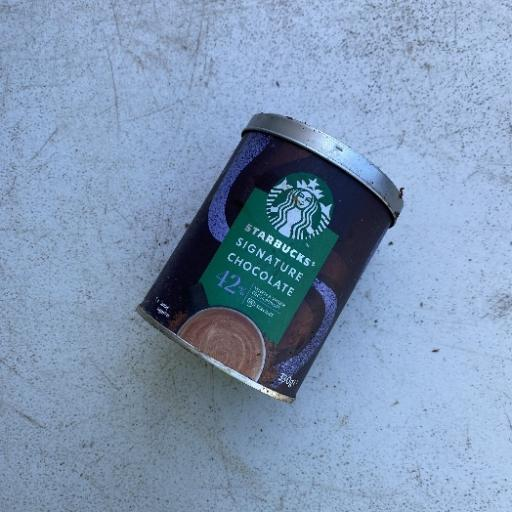Metal: (134, 110, 405, 404)
